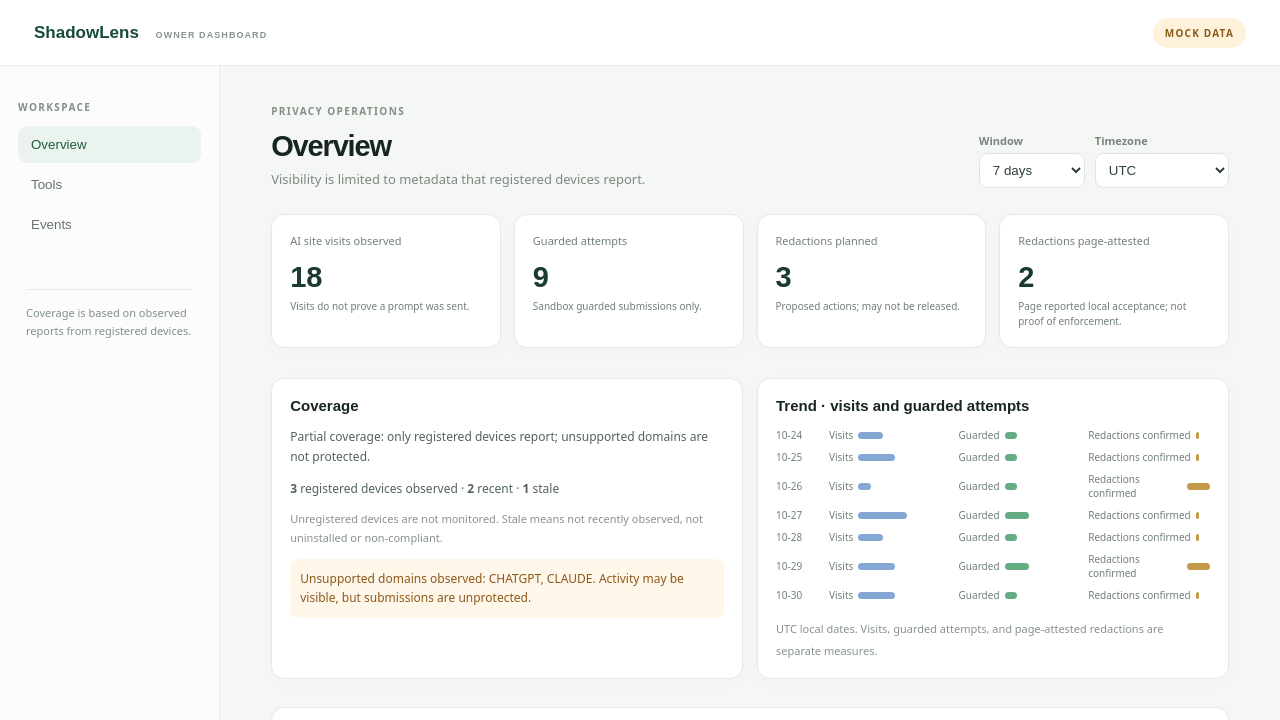
Scenario: dashboard mock experience › requests and displays the selected timezone
The width and height of the screenshot is (1280, 720).
Expected: the heading "Trend · visits and guarded attempts" is shown, [776,397,1029,414]
Select "Asia/Kolkata" in the dropdown labelled "Timezone" at point(1162, 170), box [1095,153,1229,188]
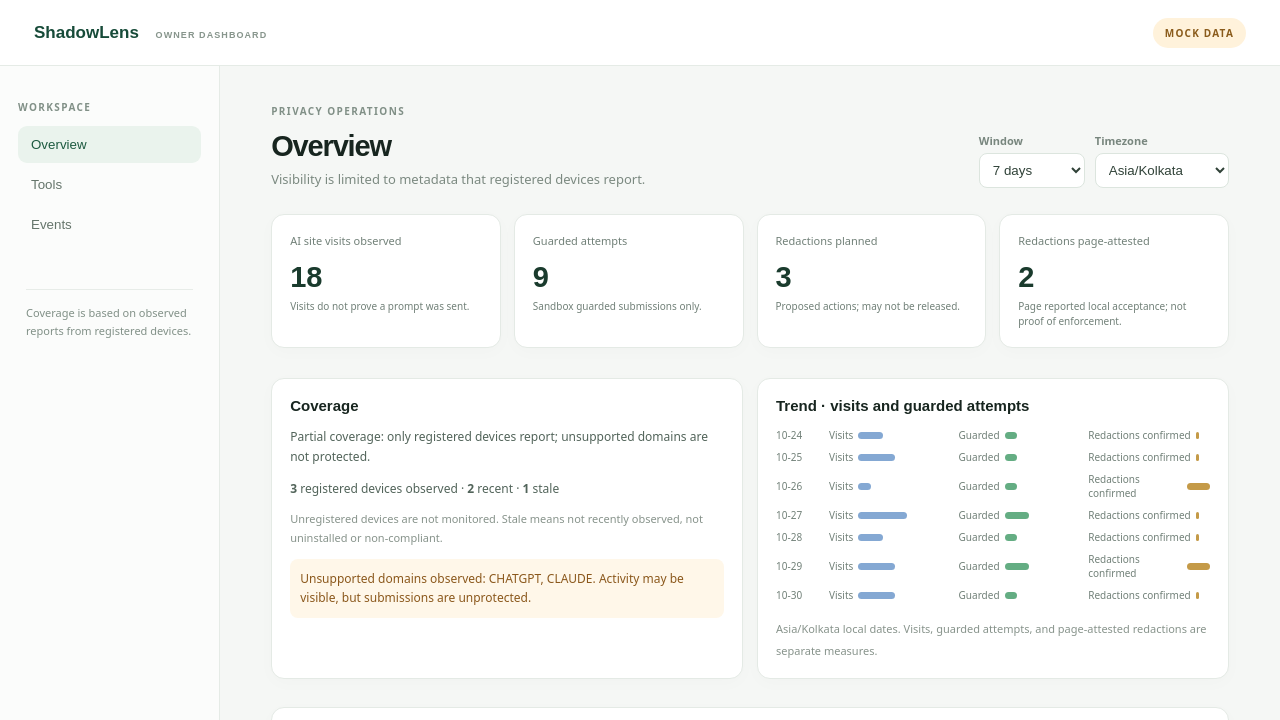
Expected: the text "Asia/Kolkata local dates" is shown, [776,621,1206,658]
